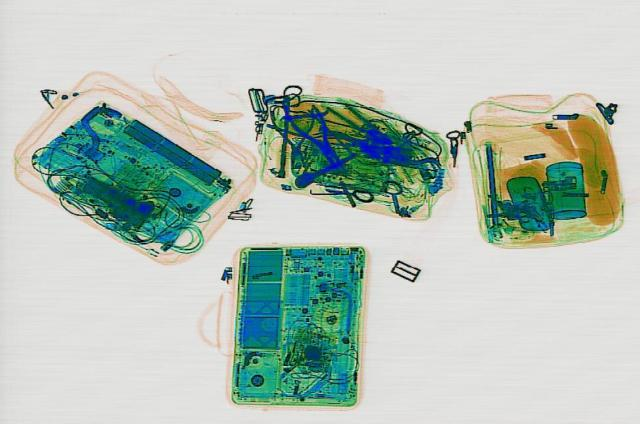Pliers: (280, 103, 358, 172), (267, 107, 321, 168)
